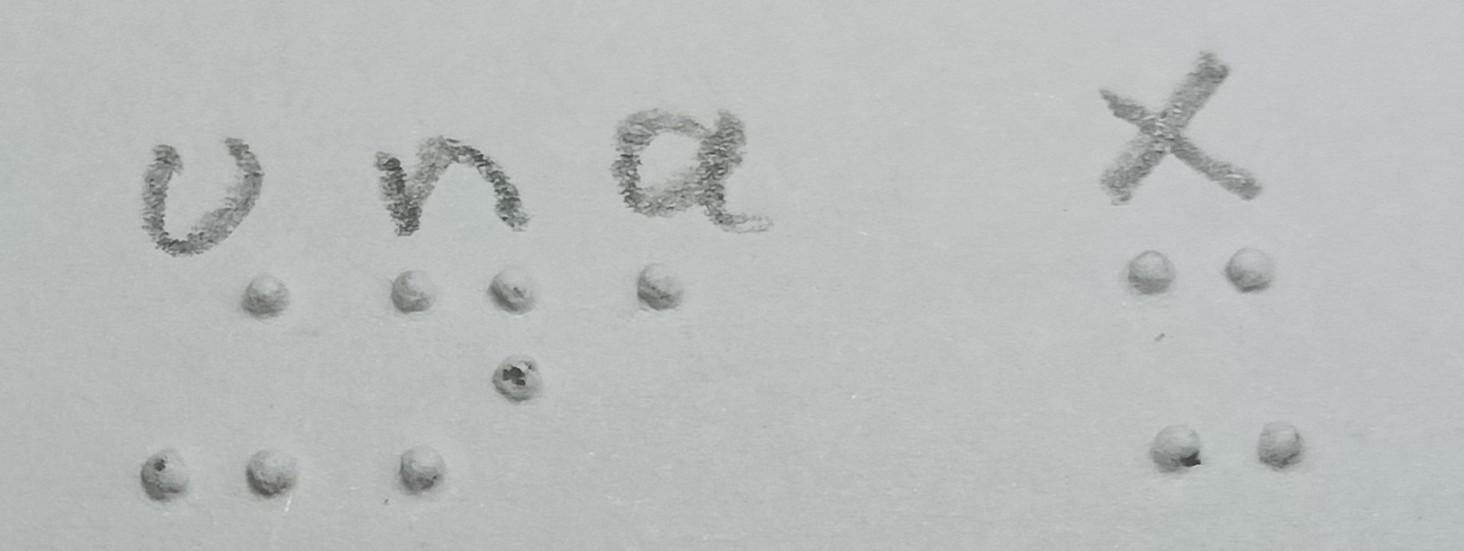a: (575, 240, 735, 358)
n: (357, 257, 578, 523)
u: (107, 268, 350, 522)
x: (1093, 223, 1338, 500)
